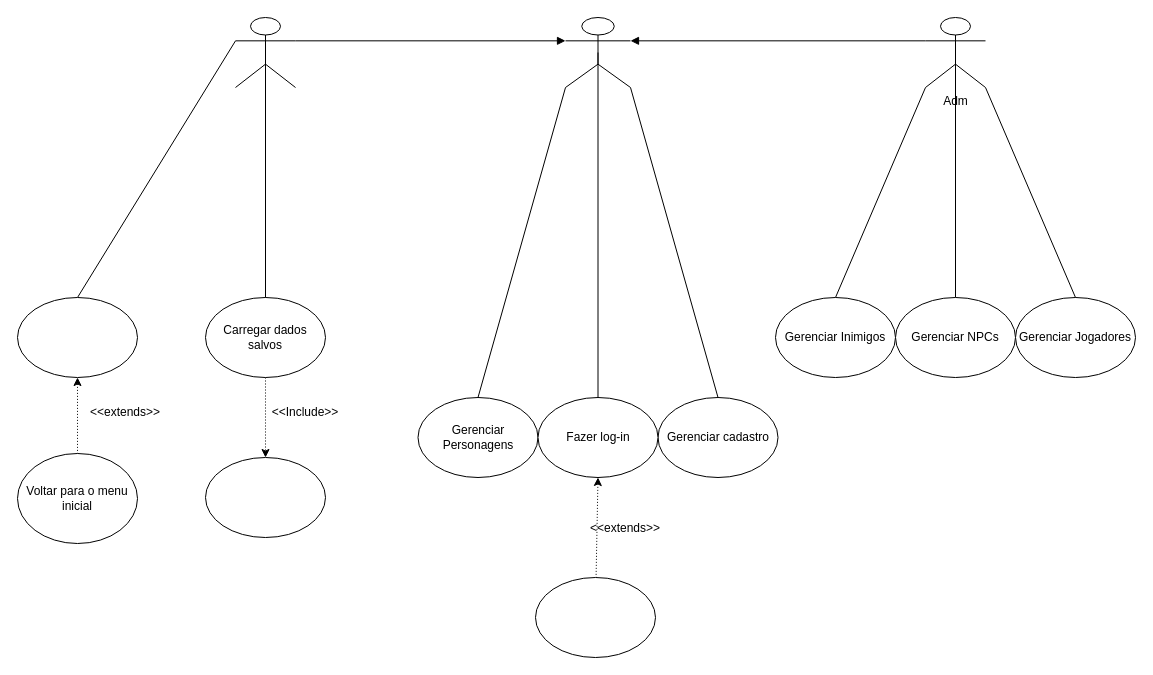
The diagram is 1153 pixels wide and 675 high, and some of its shapes have lost their labels. Here are the shapes that lost their labels. From the top down, the centre of each, then its label:
At [265,52]: "Jogador".
At [597,52]: "User".
At [77,337]: "Pausar jogo".
At [265,497]: "Jogar".
At [595,617]: "Fazer log-out".
